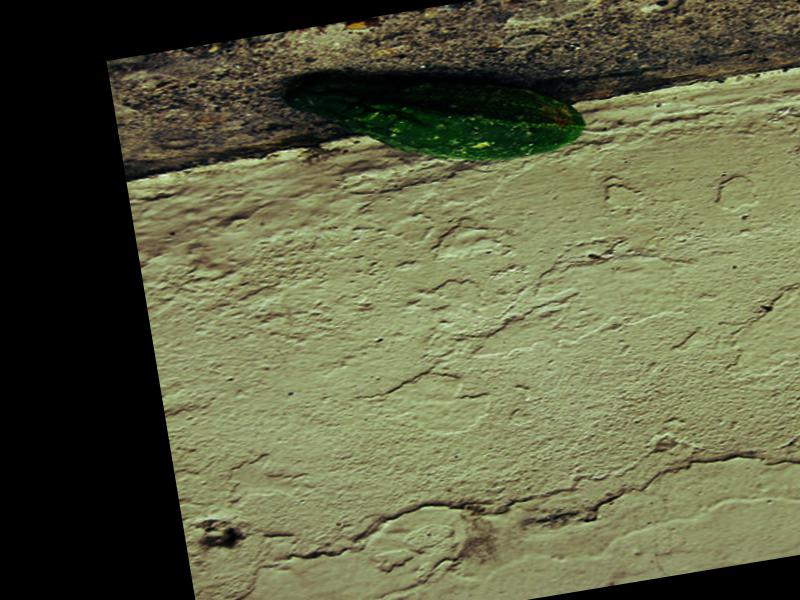Cucumber: (285, 35, 588, 193)
